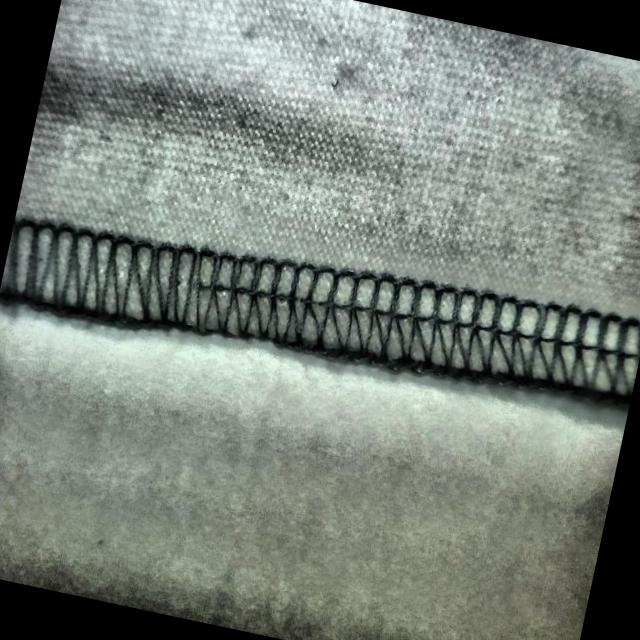gray stitch: (0, 194, 381, 377)
